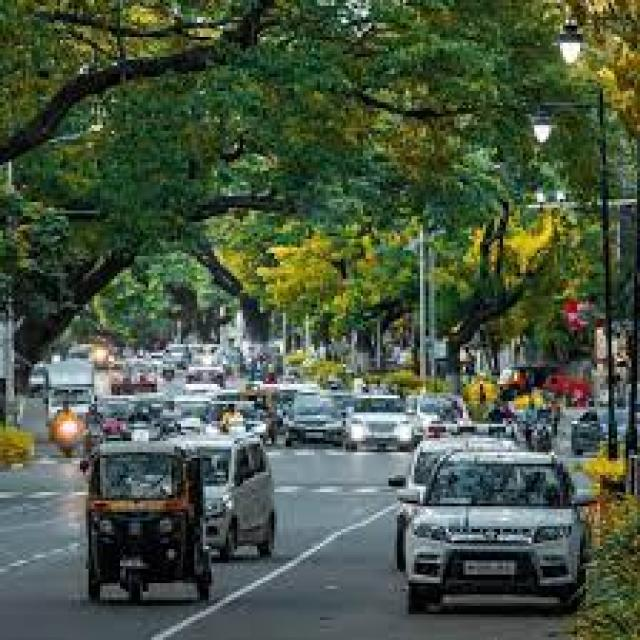Vehicles: (383, 425, 611, 612), (77, 426, 227, 621), (337, 390, 420, 458), (286, 395, 350, 462), (43, 412, 83, 452)
